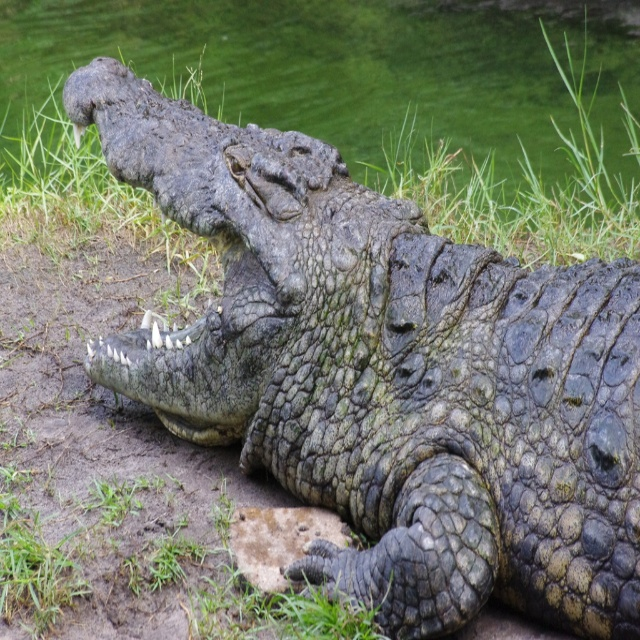Crocodile: (63, 57, 640, 640)
